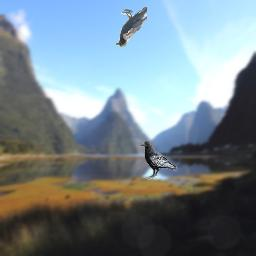Crow: (140, 140, 178, 180), (115, 7, 147, 47)
